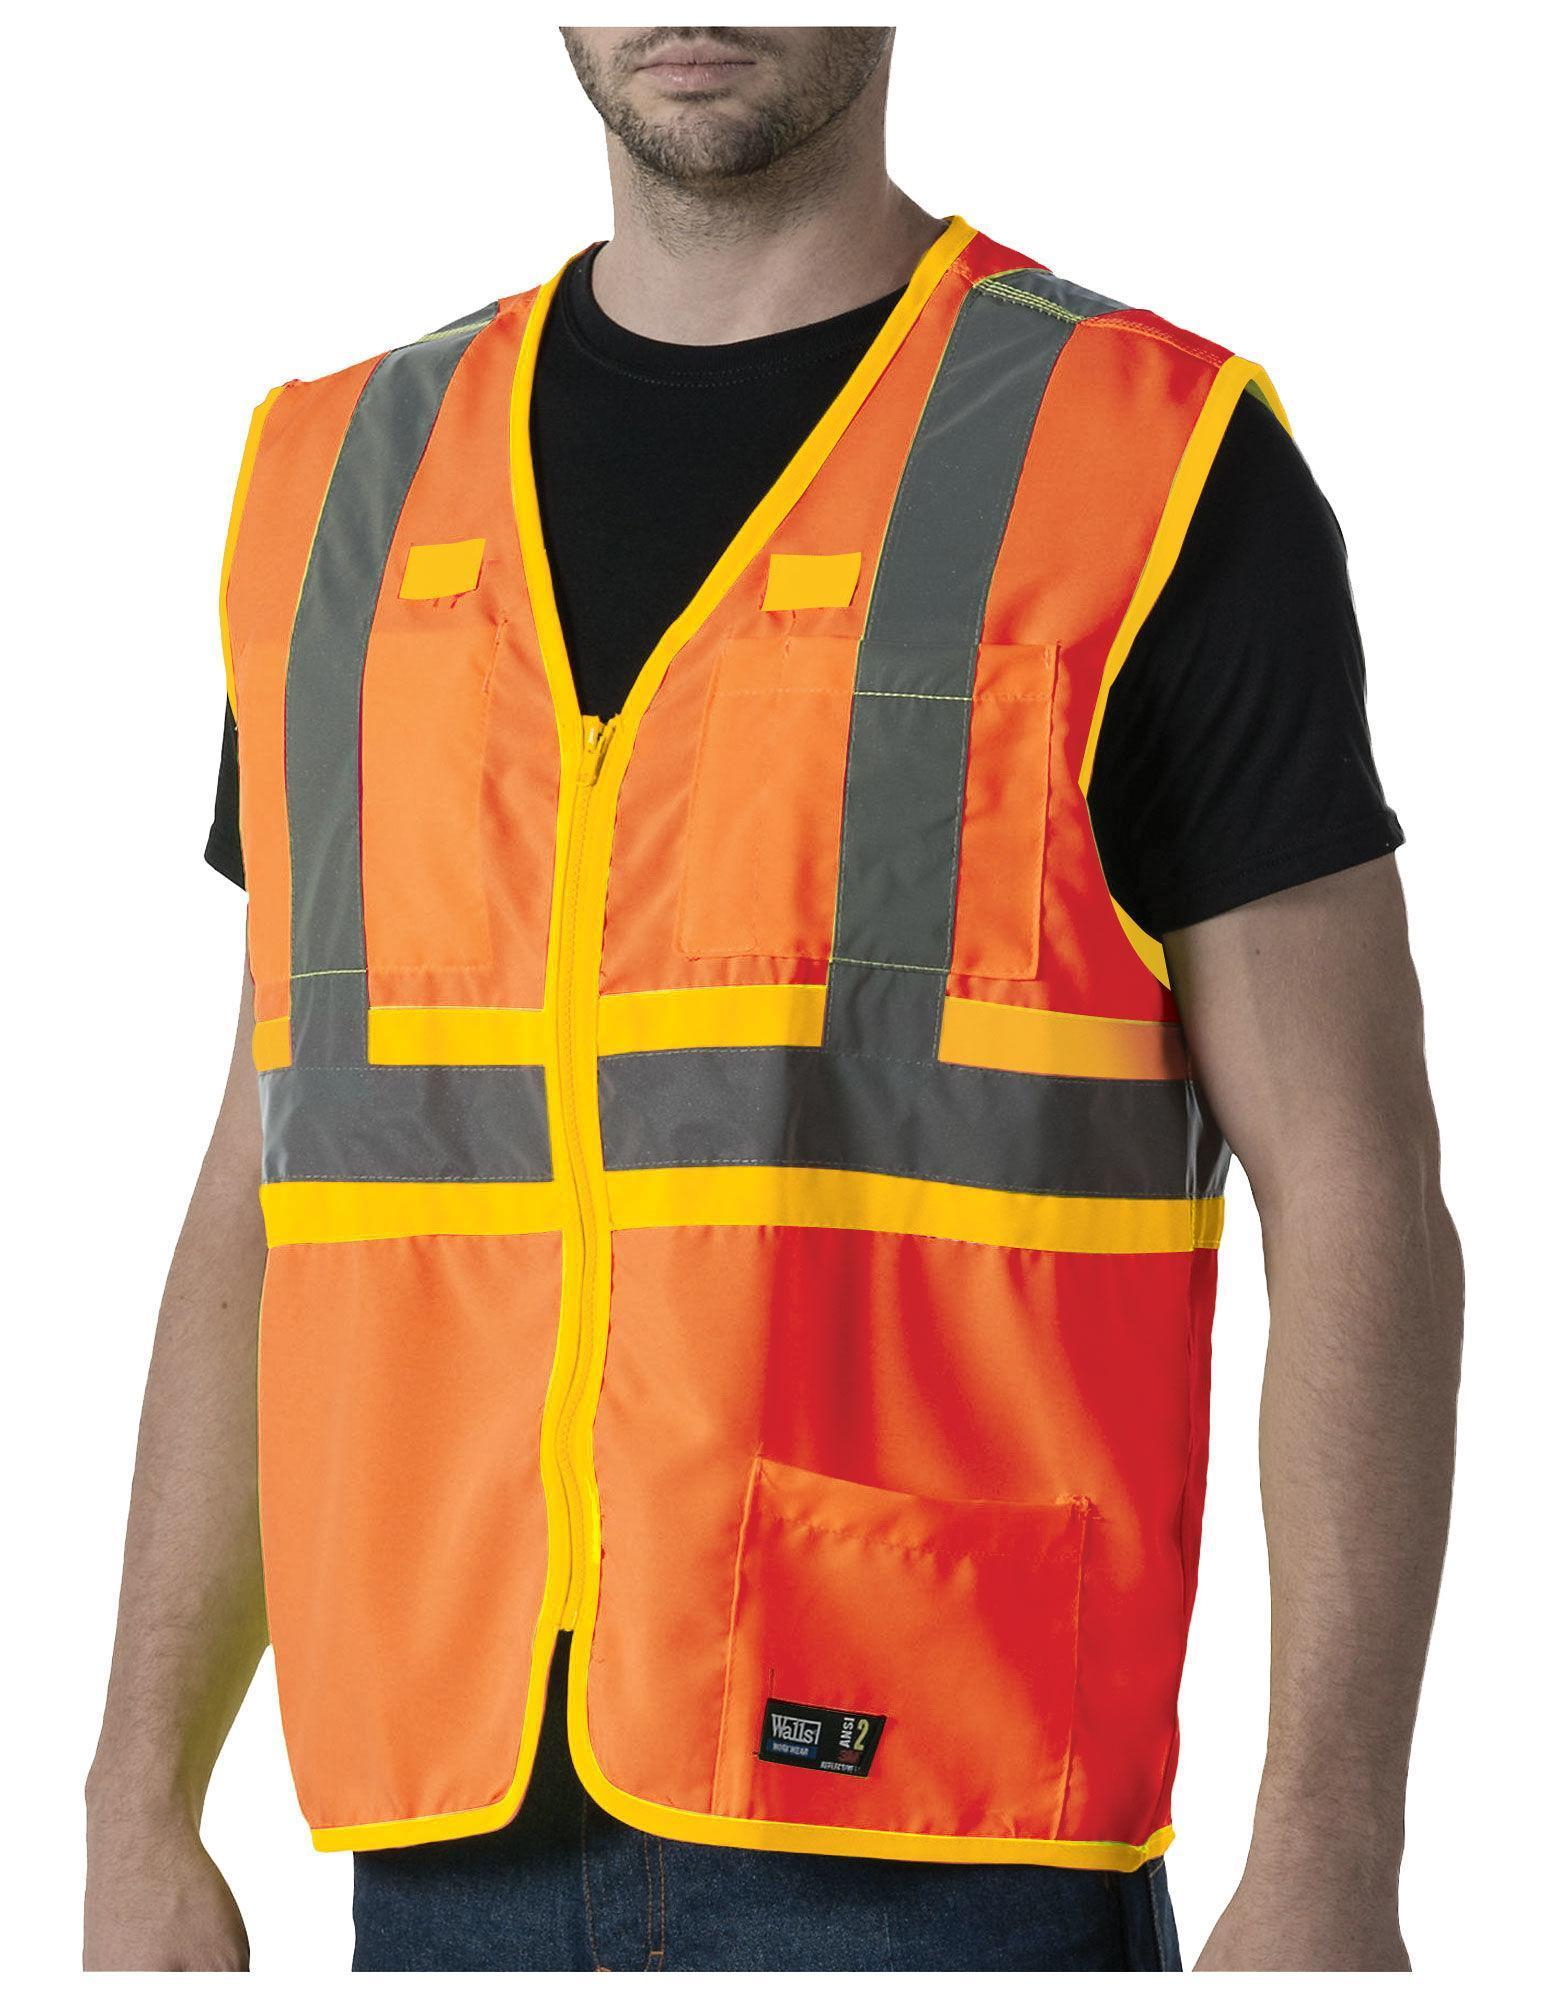vest: (213, 211, 1315, 1867)
